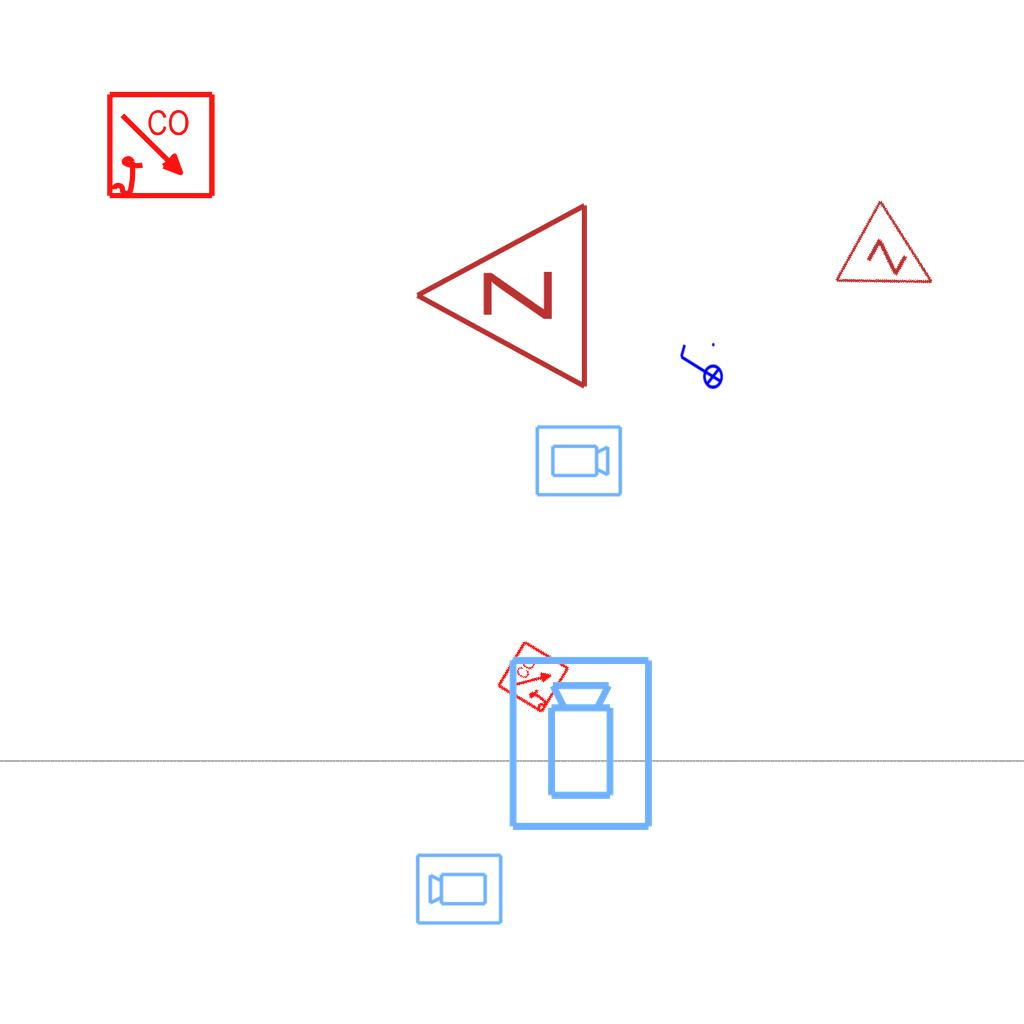Ausschalter_beleuchtet: (676, 340, 724, 396)
KFO_Kamera_mit_Festobjektiv: (505, 653, 659, 835), (414, 850, 505, 927), (533, 423, 624, 500)
ROA_Rauchmelder_optisch_mit_Signalgeber_(Sockelsirene): (105, 90, 218, 203), (495, 638, 573, 716)
Zimmersignalleuchte: (402, 200, 602, 396), (827, 192, 963, 328)
